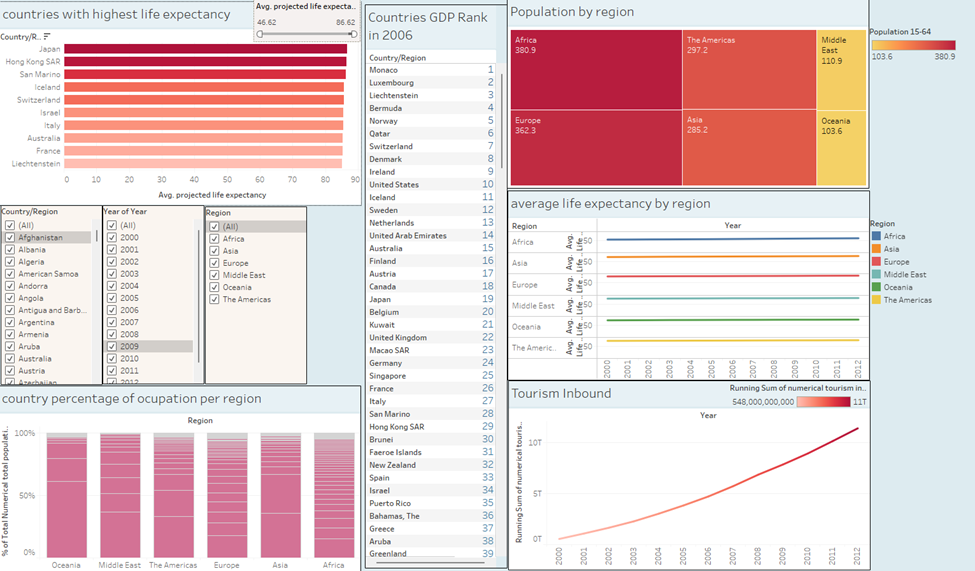

The page's visual inventory and layout, read from the dashboard file:
{"tool":"tableau","page":{"name":"Dashboard 1","canvas":[1000,1000],"units":"permille","ordinal":0},"visuals":[{"type":"worksheet","title":"Sheet 1","mark":"Automatic","rows":["Country/Region"],"cols":["Calculation_285697117678362625"],"box":[0.6,2.2,332.9,358.3]},{"type":"worksheet","title":"Sheet 5","mark":"Automatic","rows":["Country/Region"],"box":[336.4,7.8,131.1,987.7]},{"type":"legend","title":"Sheet 2","param":"[federated.0rrs8sl1j7vt8a13e0oeb0op5x5v].[sum:Population 15-64:qk]","box":[799.9,45.8,81.9,61.4]},{"type":"worksheet","title":"Sheet 3","mark":"Automatic","rows":["Region","Life Expectancy"],"cols":["Year"],"box":[467.5,333.7,332.9,332.6]},{"type":"filter","title":"Sheet 5","param":"[federated.0rrs8sl1j7vt8a13e0oeb0op5x5v].[none:Country/Region:nk]","box":[1.8,359.4,93.6,314.7]},{"type":"filter","title":"Sheet 3","param":"[federated.0rrs8sl1j7vt8a13e0oeb0op5x5v].[yr:Year:ok]","box":[95.4,359.4,93.6,313.6]},{"type":"filter","title":"Sheet 6","param":"[federated.0rrs8sl1j7vt8a13e0oeb0op5x5v].[none:Region:nk]","box":[189.6,361.6,93.6,311.4]},{"type":"legend","title":"Sheet 3","param":"[federated.0rrs8sl1j7vt8a13e0oeb0op5x5v].[none:Region:nk]","box":[800.5,381.7,77.2,154]},{"type":"worksheet","title":"Sheet 4","mark":"Automatic","rows":["Calculation_2122602815825973249"],"cols":["Year"],"box":[468.1,666.3,332.9,332.6]},{"type":"legend","title":"Sheet 4","param":"[federated.0rrs8sl1j7vt8a13e0oeb0op5x5v].[cum:sum:Calculation_212260281582597324","box":[671.7,669.6,128.7,59.1]}]}

Visuals, with their boxes on the dashboard's canvas, which has no fixed pixel size, in thousandths of its width and height (x1, y1, x2, y2). These are canvas units, not pixel positions in the 975x571 screenshot, which may show the page scaled, cropped or inside an application window:
"Sheet 1" worksheet: [1, 2, 334, 360]
"Sheet 5" worksheet: [336, 8, 468, 996]
"Sheet 2" legend: [800, 46, 882, 107]
"Sheet 3" worksheet: [468, 334, 800, 666]
"Sheet 5" filter: [2, 359, 95, 674]
"Sheet 3" filter: [95, 359, 189, 673]
"Sheet 6" filter: [190, 362, 283, 673]
"Sheet 3" legend: [800, 382, 878, 536]
"Sheet 4" worksheet: [468, 666, 801, 999]
"Sheet 4" legend: [672, 670, 800, 729]
